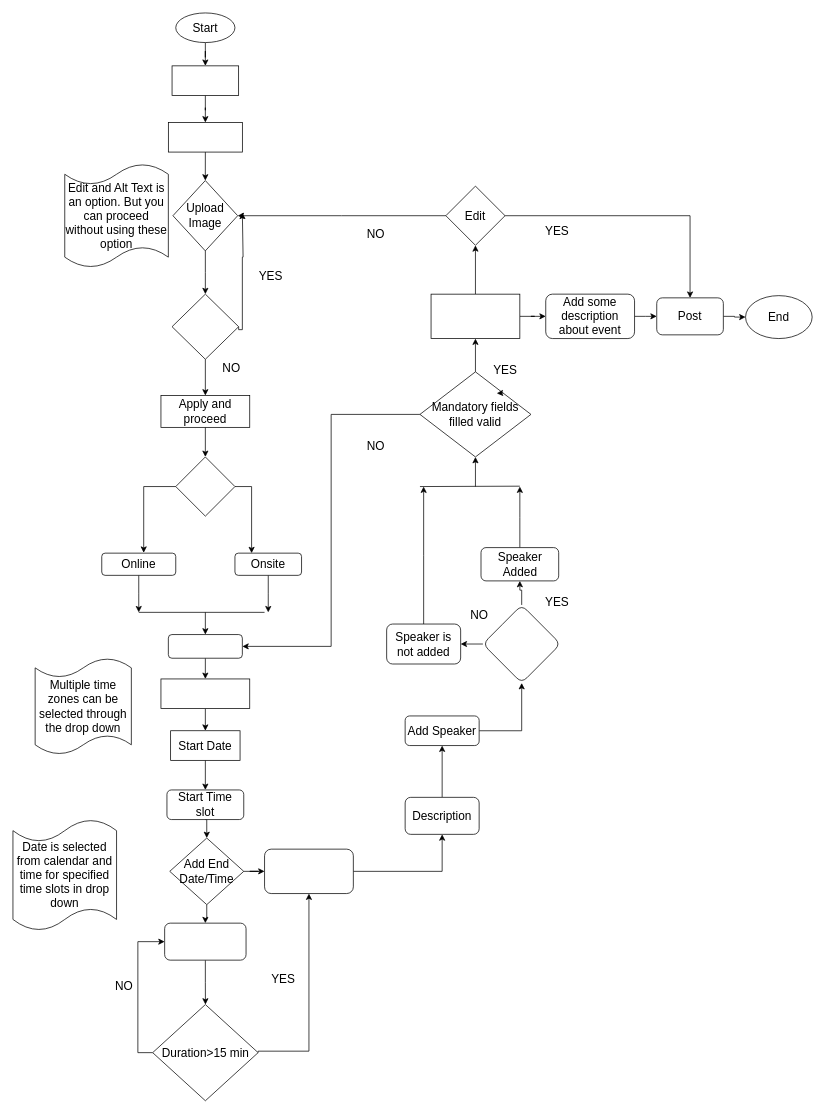
The diagram is 825 pixels wide and 1114 high, and some of its shapes have lost their labels. The centre of each missing label's shape, as x and y in pixels:
"Change photo" goes at [205,326].
"Click on an event" goes at [205,137].
"End Date/Time slot" goes at [205,941].
"Event Name" goes at [205,646].
"Event Type" goes at [205,486].
"External Event Link" goes at [308,871].
"LinkedIN ID Existence" goes at [521,643].
"Logged in" goes at [205,80].
"Proceed" goes at [475,316].
"Time Zone Selection" goes at [205,693].
